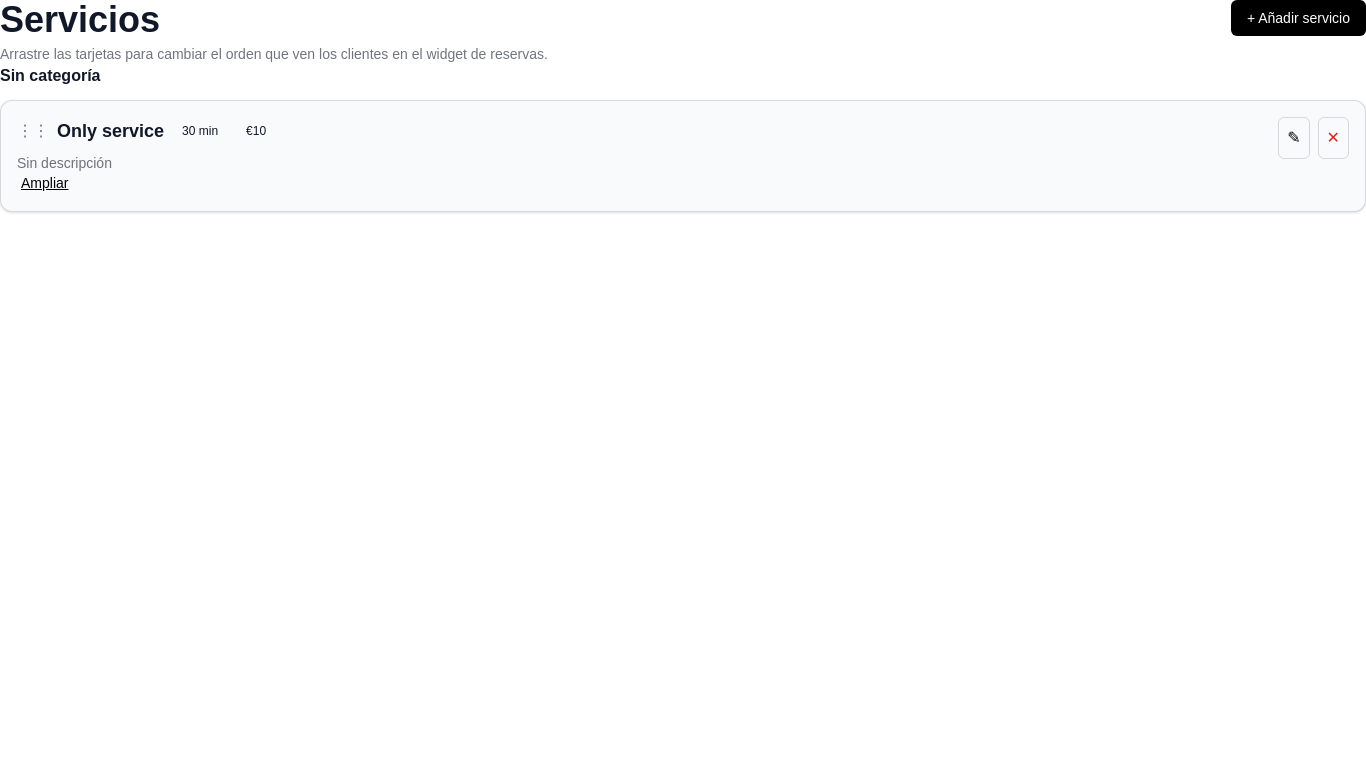
Test: AdminServicesPage › opens the add-service modal from the primary toolbar button
The image size is (1366, 768).
Check: the heading "Only service" is shown, box top-left (57, 117), bottom-right (164, 145)
Click the button "+ Añadir servicio". click: (1298, 18)
box: top-left (1231, 0), bottom-right (1365, 36)
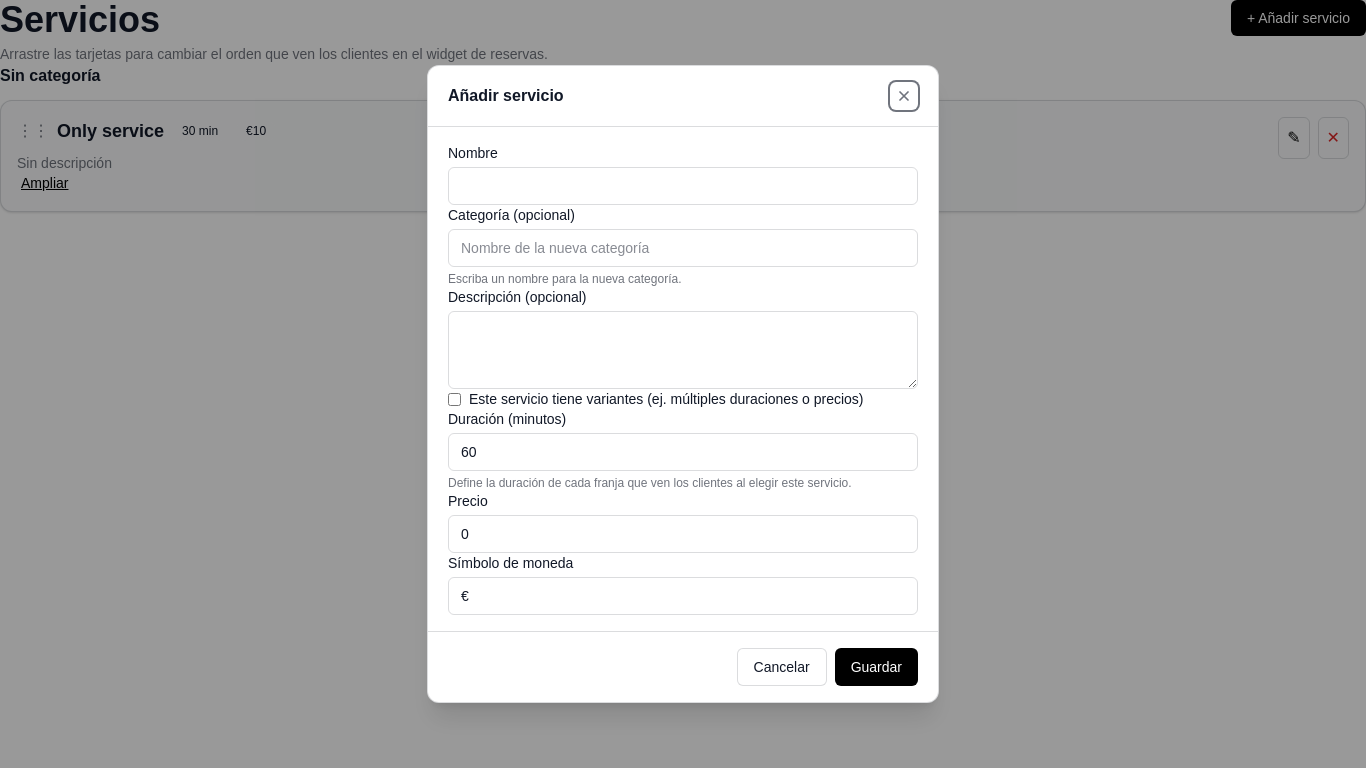
Check: the heading "Añadir servicio" is shown, box top-left (448, 84), bottom-right (564, 108)
